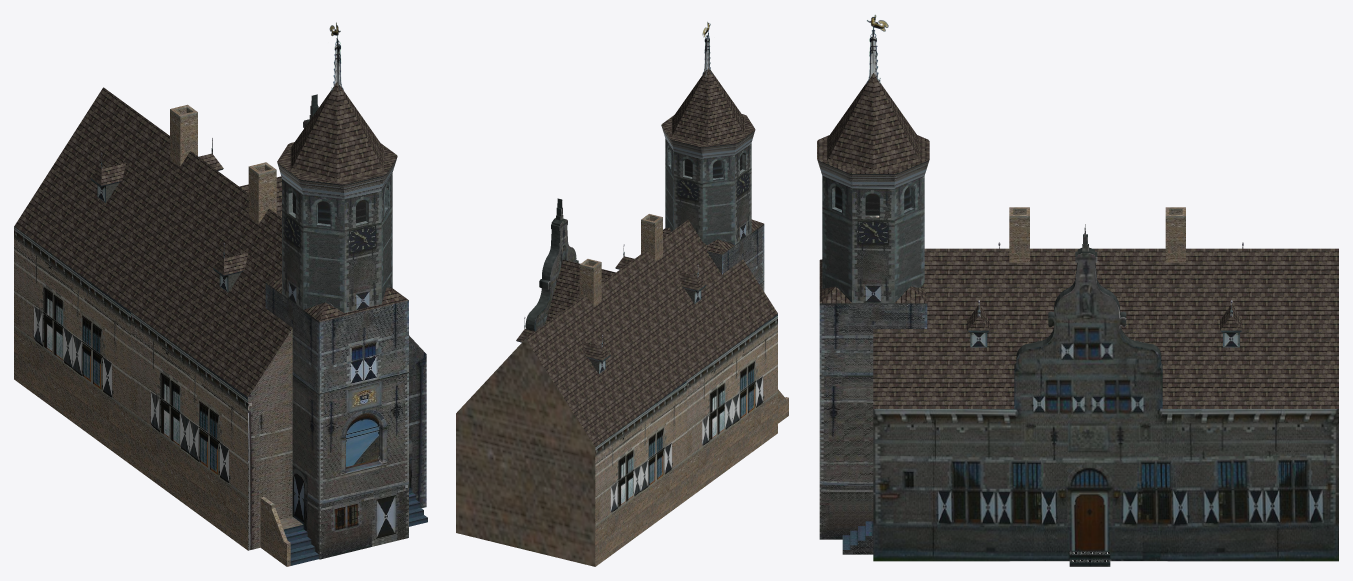
File: eu_townhall.glb
The picture shows the model from 3 angles, left to right: view 1: azimuth 30°, elevation 25°; view 2: azimuth 150°, elevation 25°; view 3: azimuth 270°, elevation 25°; orthographic projection. The views are drawn at different scales.
Visible parts, largest first — view 1: eu_02; view 2: eu_02; view 3: eu_02.
Part boxes in pixels (x1,y1,x2,y2): eu_02: (14, 22, 427, 566); eu_02: (456, 22, 788, 566); eu_02: (817, 14, 1338, 566).
Size of the model in its own units: 7.78 by 19.88 by 18.58.
16 materials, 15 textured.
